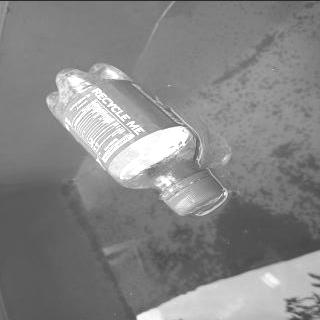bottle: (46, 62, 226, 216)
